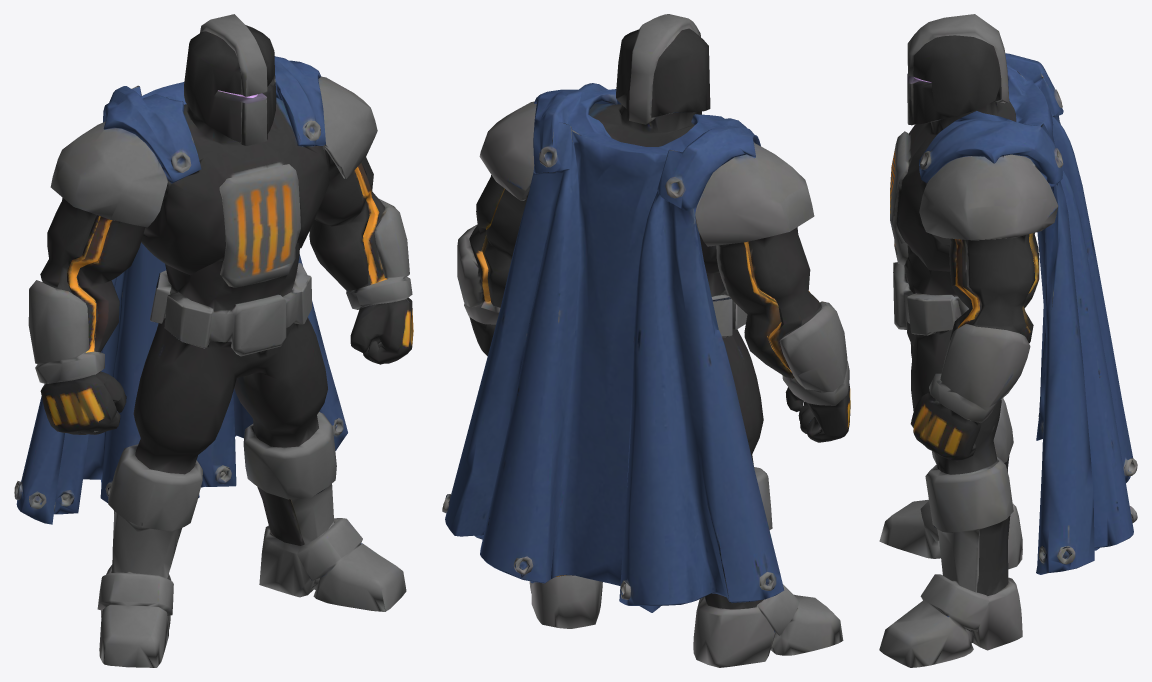
The model's file is campeon.glb.
3 renders of one model, left to right at view 1: azimuth 30°, elevation 25°; view 2: azimuth 150°, elevation 25°; view 3: azimuth 270°, elevation 25°, orthographic. The views are drawn at different scales.
Parts seen in each view (by area): view 1: Malla; view 2: Malla; view 3: Malla.
Part boxes in pixels (x1,y1,x2,y2): Malla: (14, 14, 413, 667); Malla: (442, 14, 850, 667); Malla: (879, 14, 1137, 667).
Bounding box in the file's own units: 1.39 × 2.1 × 0.8536.
1 material, 1 textured.
